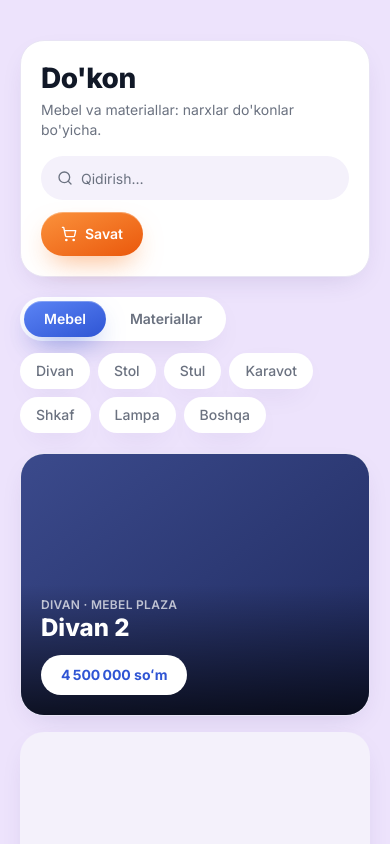
Test: ShopHome › switches to the materials, with their unit and price, and asks the server only then
Expected: the button "Divan · Mebel Plaza Divan 2 4 500 000 soʻm" is shown, [21,454,369,715]
Click the tab "Materiallar" at (166, 319), box [110,301,222,337]
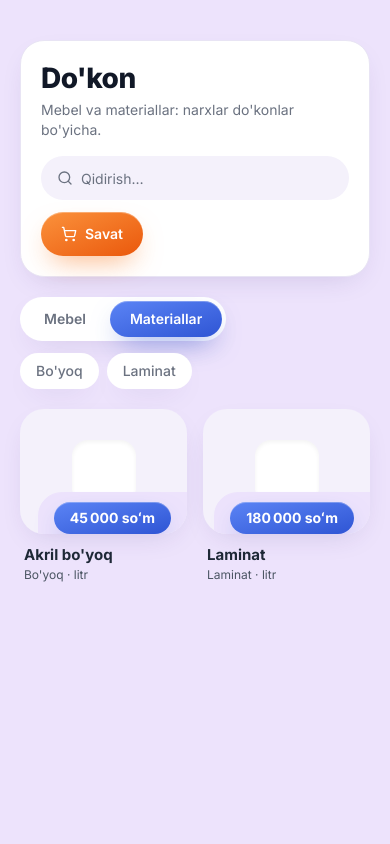
Expected: the button "45 000 soʻm Akril bo'yoq Bo'yoq · litr" is shown, [20,409,187,583]
Expected: the text "Bo'yoq · litr" is shown, [24,567,88,582]
Expected: the button "Divan 2" is gone
